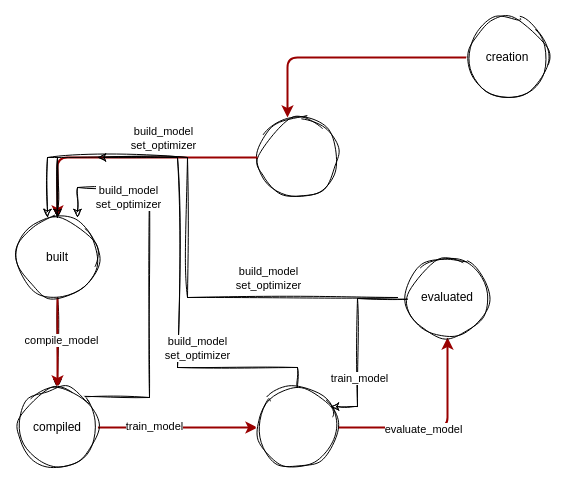
This 565x485 diagram has some shape labels left out. The box of each missing label's shape, as (x1, y1, x2, y2) in pixels:
initiated: (256, 116, 338, 198)
trained: (256, 386, 338, 468)
